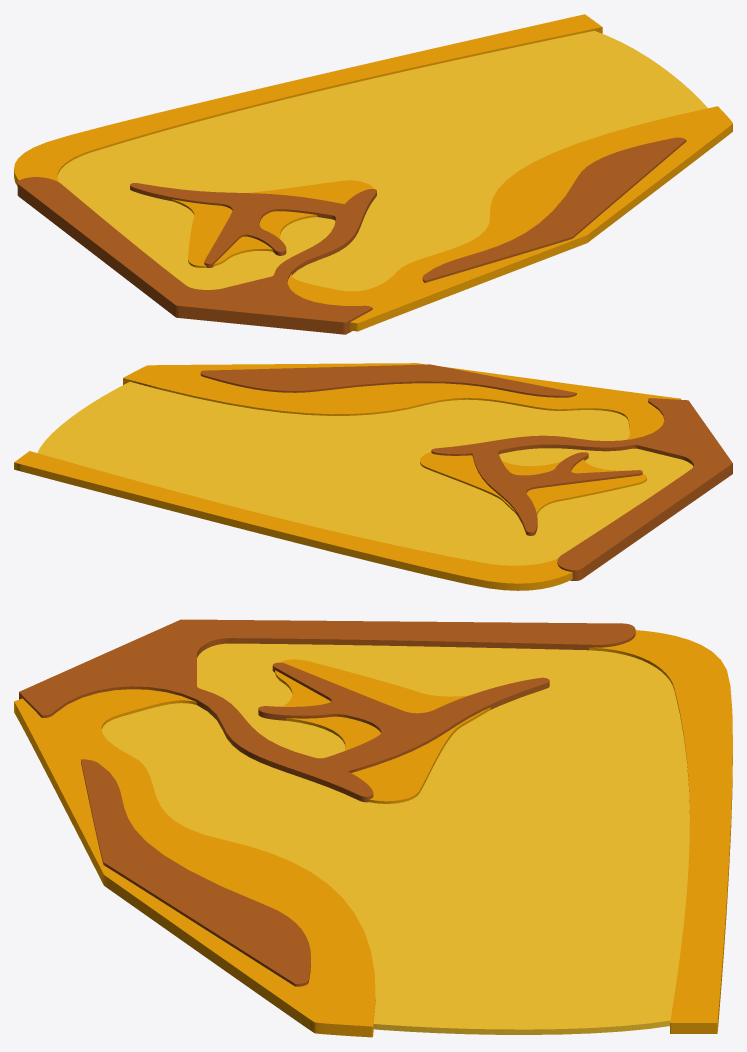
The model's file is emoji_u1f91b.glb.
The picture shows the model from 3 angles, top to bottom: view 1: azimuth 30°, elevation 25°; view 2: azimuth 150°, elevation 25°; view 3: azimuth 270°, elevation 25°; orthographic projection. The views are drawn at different scales.
Visible parts, largest first — view 1: emoji_u1f91b; view 2: emoji_u1f91b; view 3: emoji_u1f91b.
Part boxes in pixels (<box>): emoji_u1f91b: <box>14,14,732,334</box>; emoji_u1f91b: <box>14,363,732,590</box>; emoji_u1f91b: <box>14,619,732,1037</box>.
Bounding box in the file's own units: 0.0318 × 0.0006 × 0.0239.
